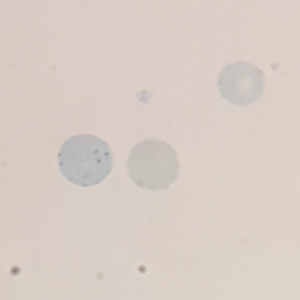erythrocyte: (125, 138, 181, 191)
punctate reticulocyte: (56, 132, 115, 189), (216, 61, 268, 108)
